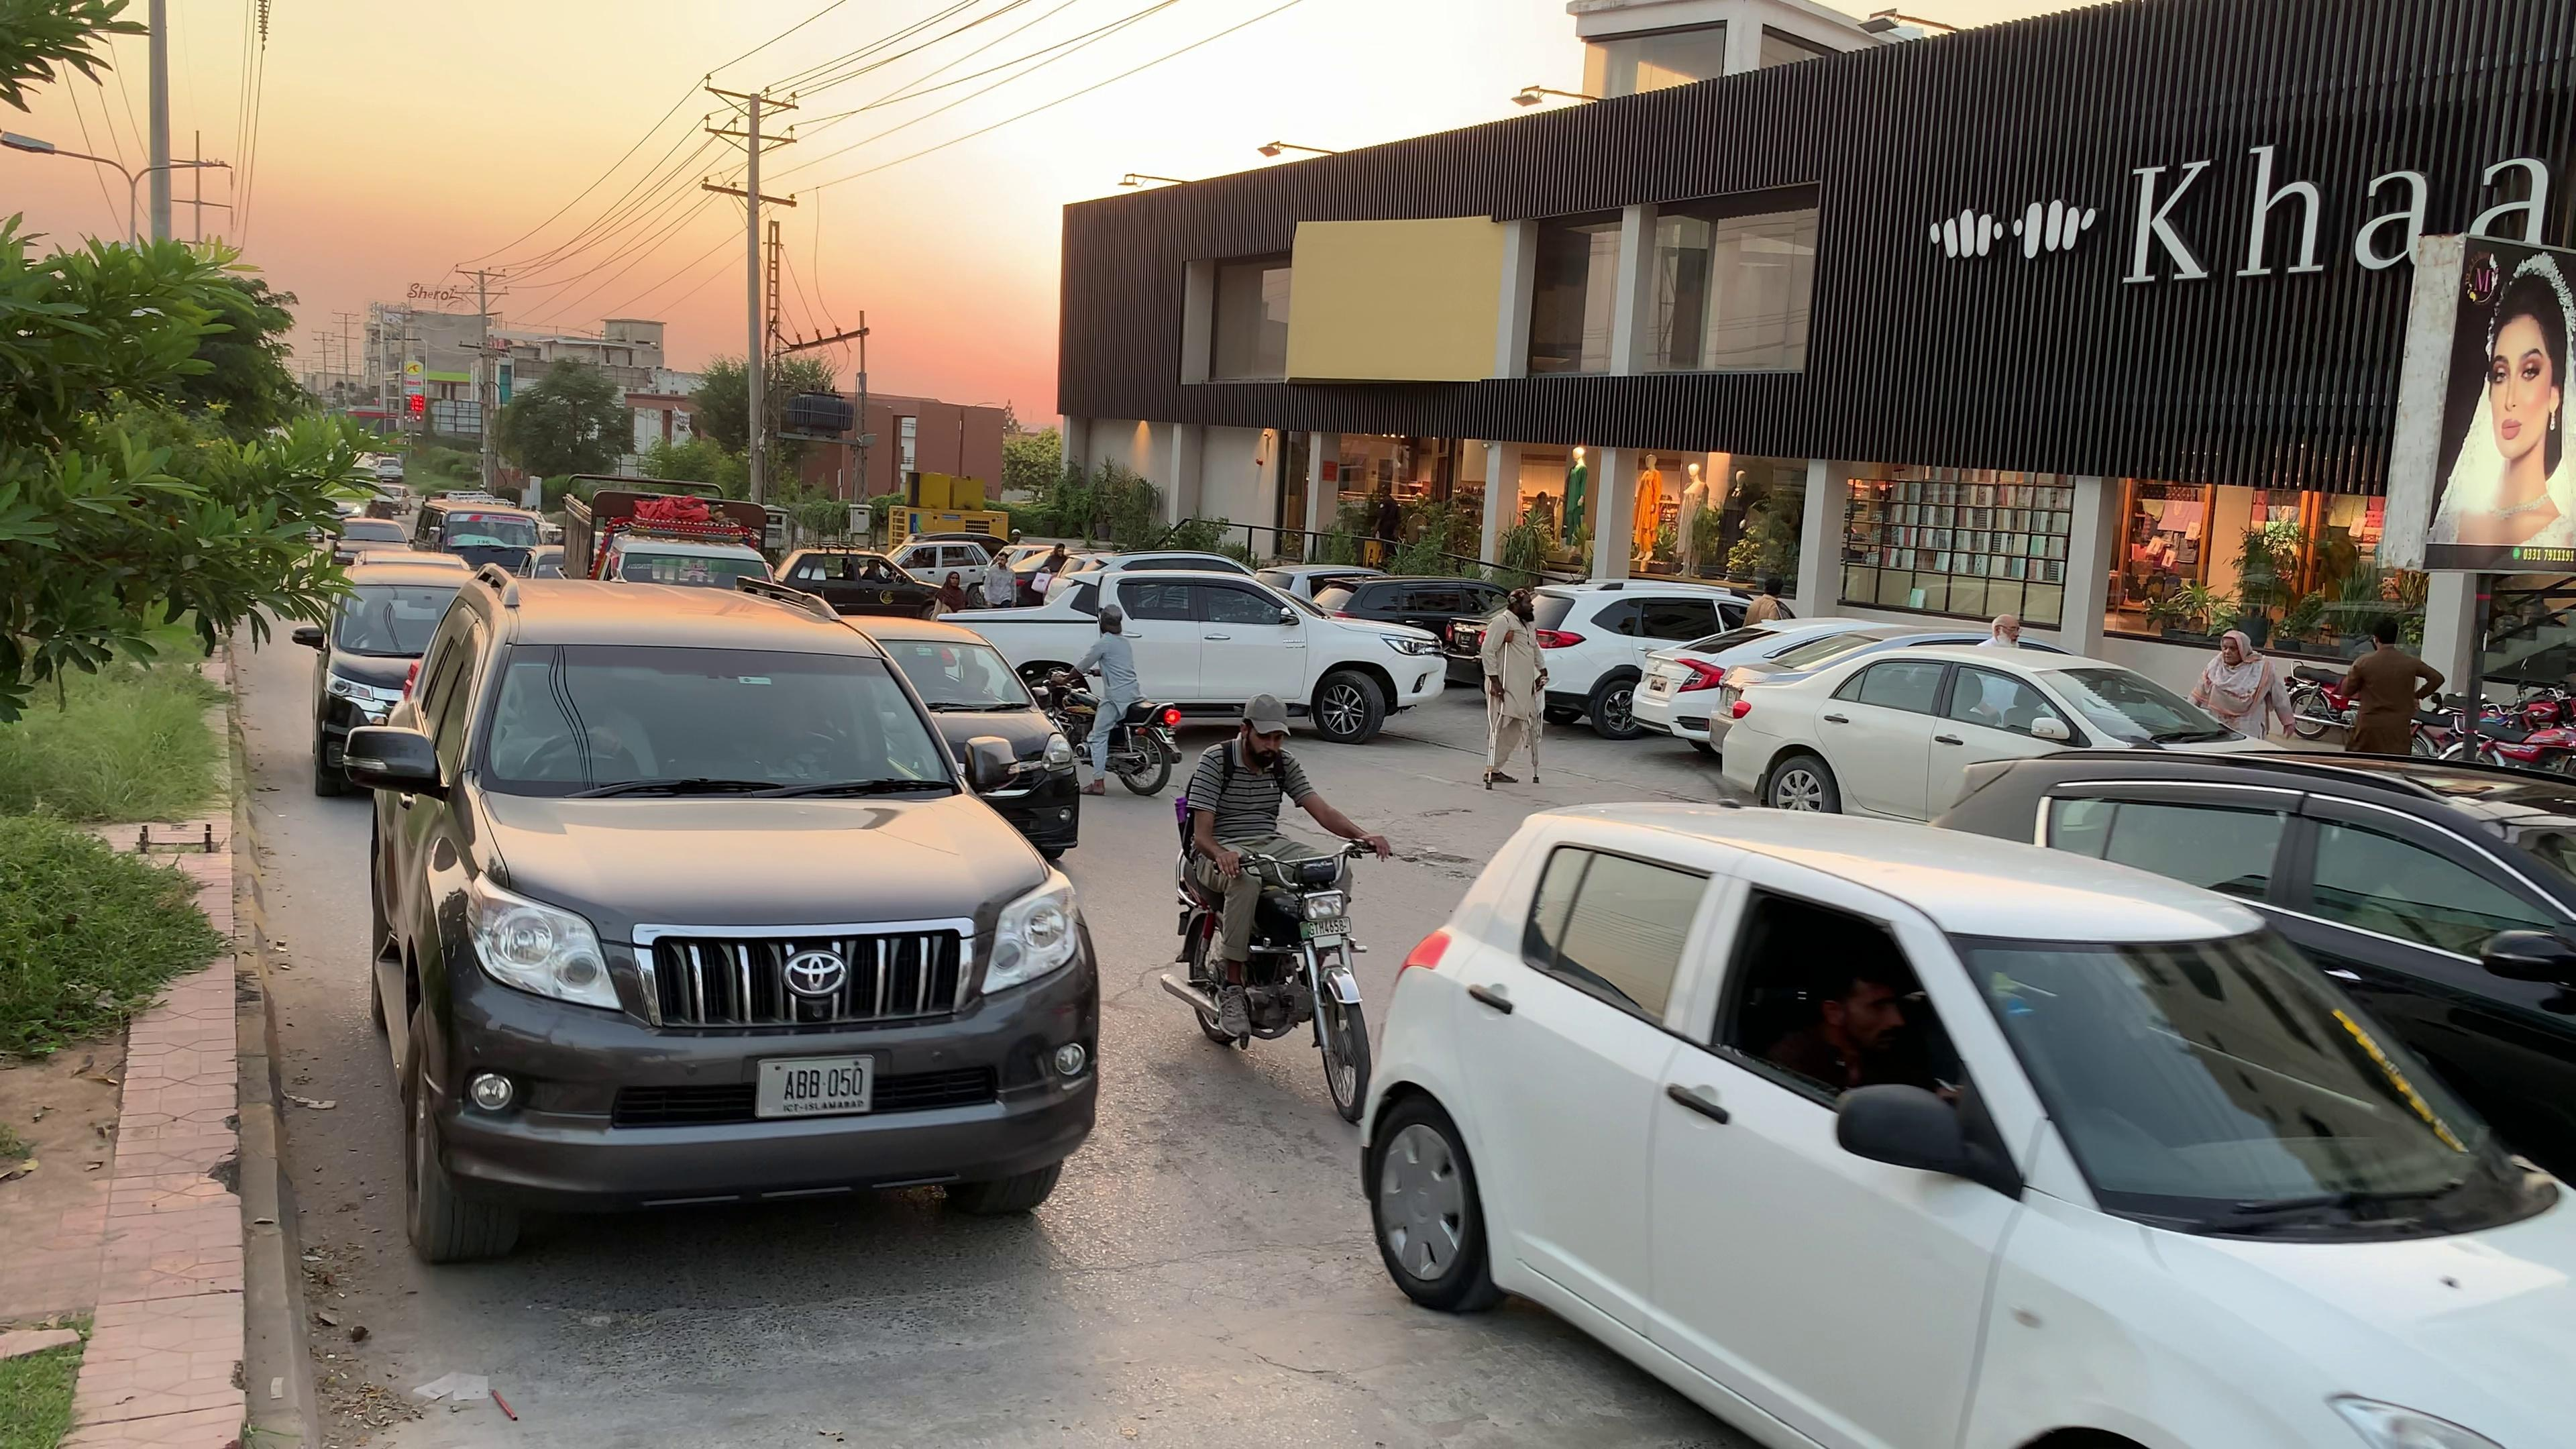windshield: (1939, 913, 2553, 1247), (471, 640, 966, 801)
